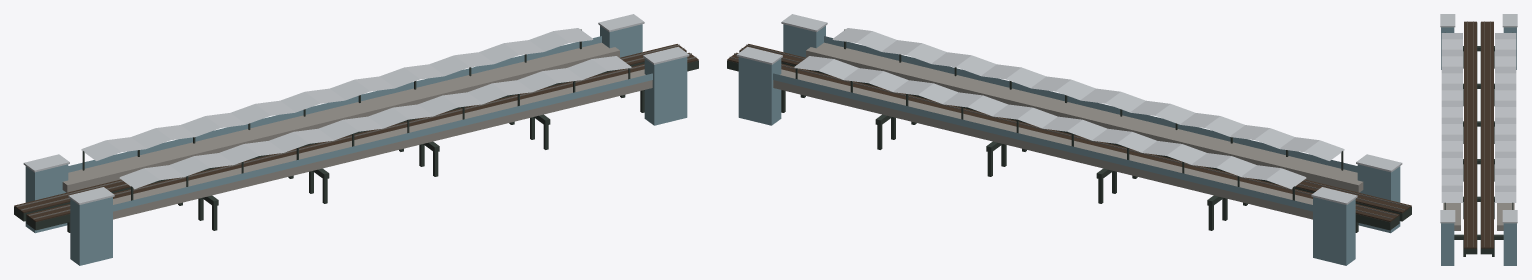
Rendered from l_station.glb.
The picture shows the model from 3 angles, left to right: view 1: azimuth 30°, elevation 25°; view 2: azimuth 150°, elevation 25°; view 3: azimuth 270°, elevation 25°; orthographic projection. The views are drawn at different scales.
Parts seen in each view (by area): view 1: l_station; view 2: l_station; view 3: l_station.
Part boxes in pixels (x1,y1,x2,y2): l_station: (14, 14, 698, 265); l_station: (727, 14, 1411, 265); l_station: (1440, 14, 1517, 265).
Size of the model in its own units: 120 by 11.54 by 17.4.
1 material, 1 textured.
